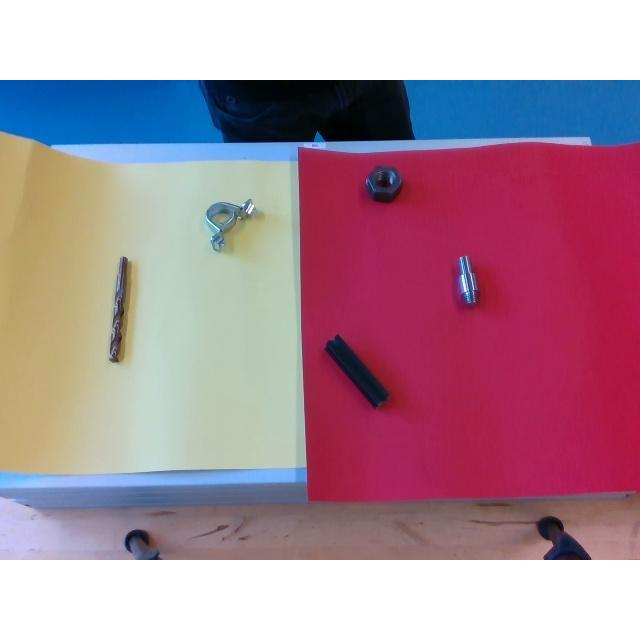Axis2: (458, 254, 478, 302)
Drill: (108, 256, 128, 360)
F20_20_B: (326, 338, 389, 404)
Housing: (206, 199, 258, 249)
M30: (366, 165, 402, 201)
